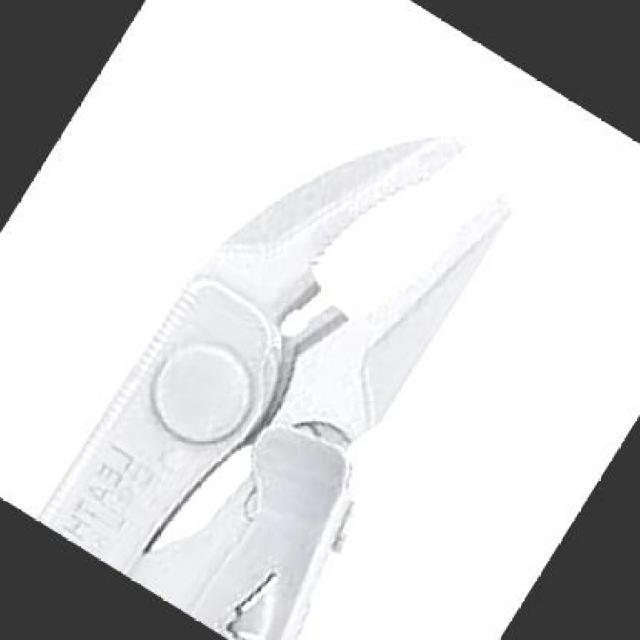pliers: (12, 34, 596, 638)
